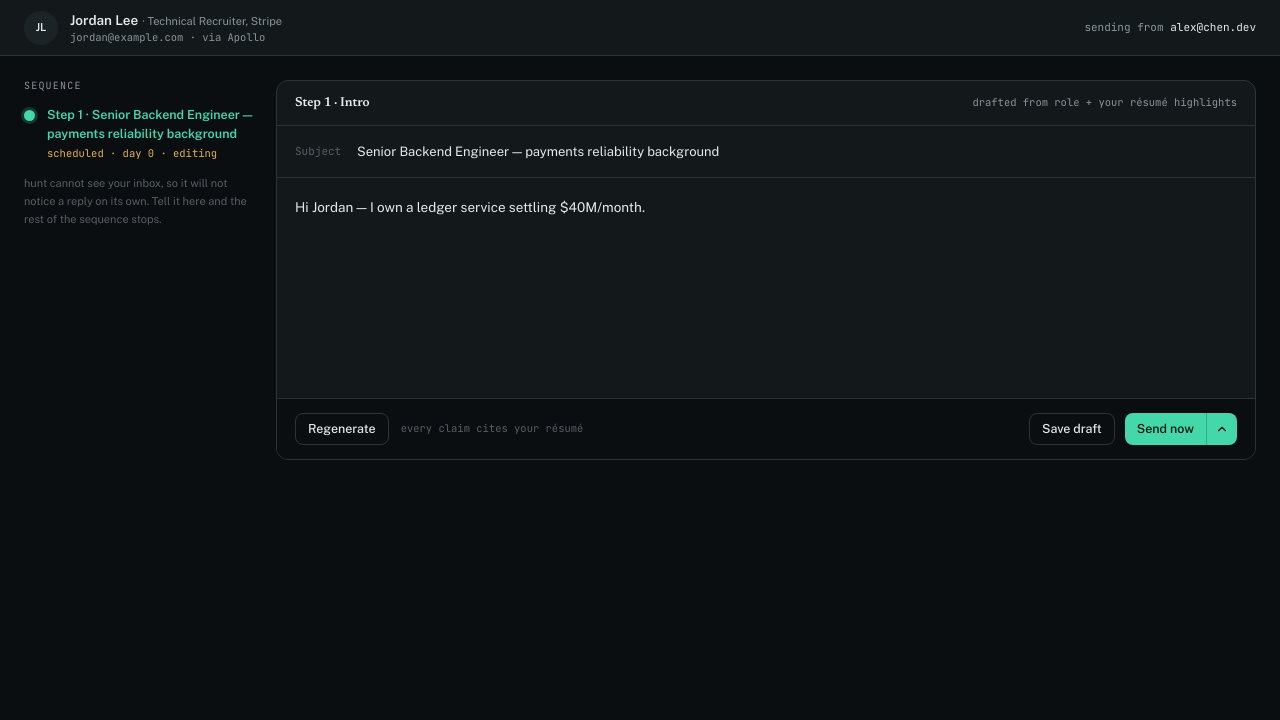
it: composer › does not paint "already sent" red — it is a normal outcome, not a failure
Click the button with test id "send-now": (1165,429) [1125,413,1206,445]
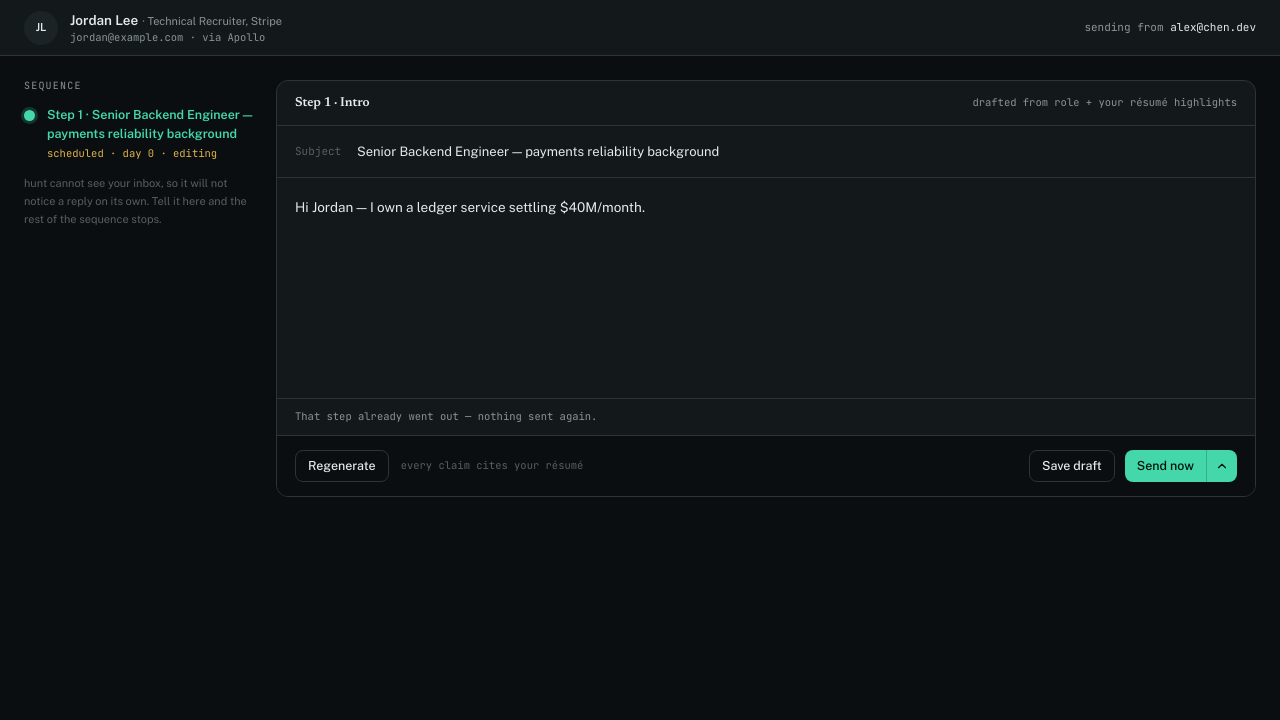
Now the text with test id "composer-note" shows "already went out", box [295,409,597,423]
